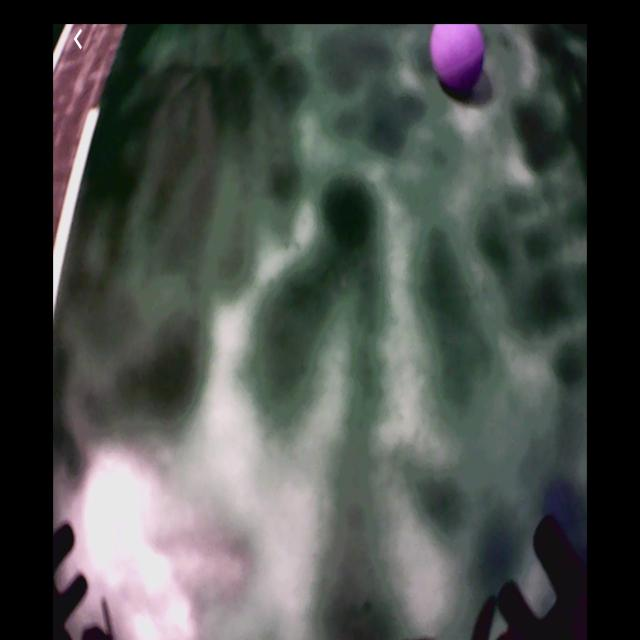ball: (432, 25, 486, 94)
